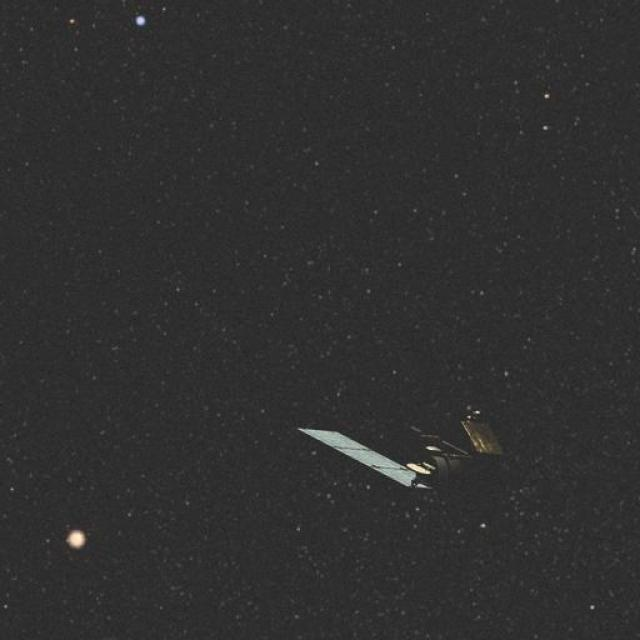earth_observation_sat_1: (293, 364, 555, 548)
